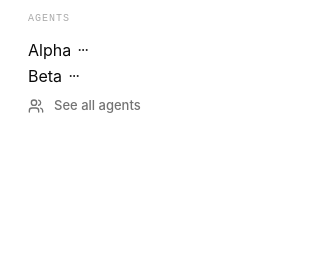
it: SidebarAgents › only shows updating state for the agent currently being changed
Click the button named "Open actions for Alpha".
click(83, 50)  # box [71,38,95,62]
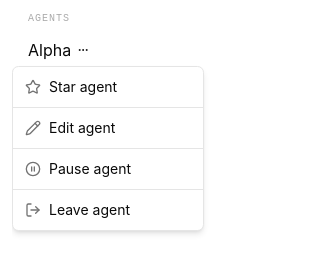
Result: the menu item "Pause agent" is shown
Click the menu item "Pause agent".
click(78, 168)  # box [25,160,131,177]
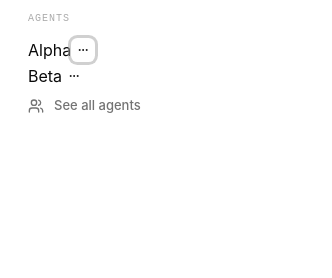
Click the button named "Open actions for Beta".
click(74, 76)  # box [62,64,86,88]
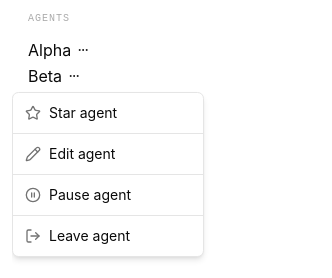
Result: the menu item "Pause agent" is shown at [25,186,131,203]
